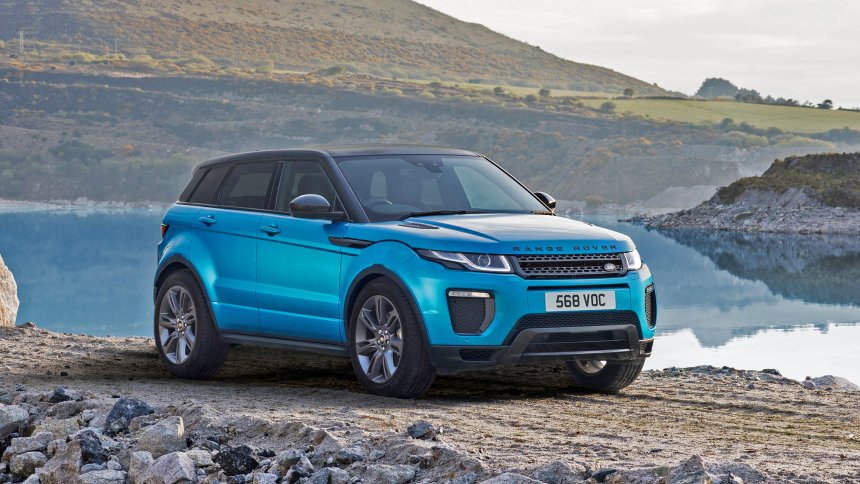car: (152, 141, 645, 387)
